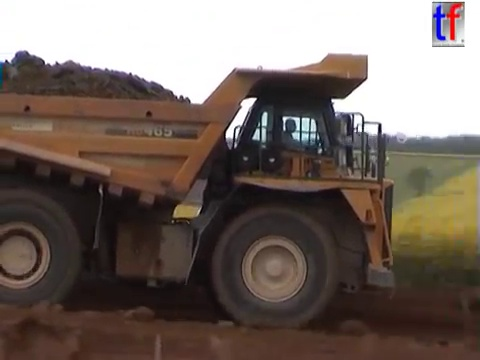truck: (1, 50, 410, 332)
